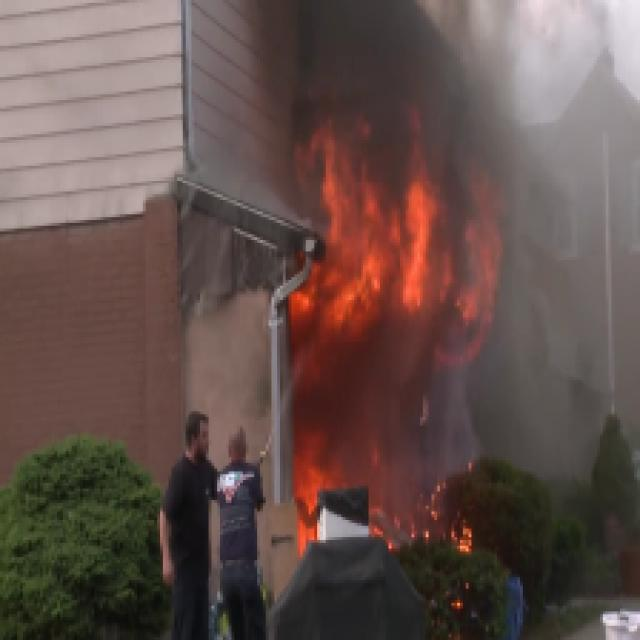Fire: (286, 120, 506, 629)
Smoke: (231, 8, 640, 148)
